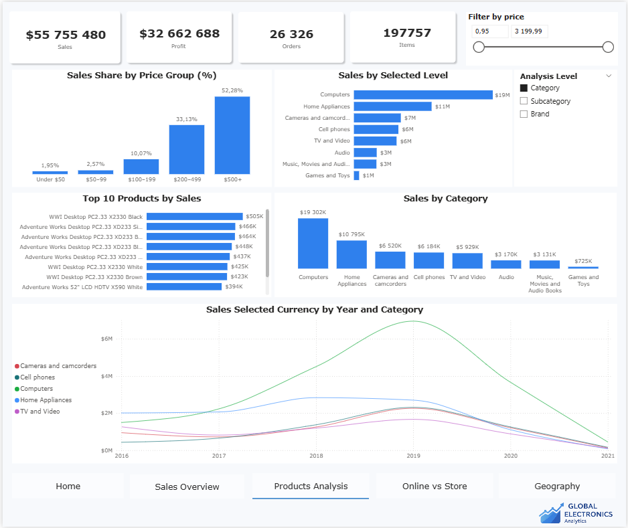

What the dashboard file says about the page in this screenshot:
{"tool":"powerbi","page":{"name":"Products Analysis","canvas":[1390,1170],"ordinal":2},"visuals":[{"type":"shape","box":[7.9,12.9,261.8,130.5],"z":0,"group":"g1"},{"type":"shape","box":[269.3,12.9,249,129.2],"z":0,"group":"g2"},{"type":"shape","box":[766.9,14.1,249.5,128.7],"z":0,"group":"g4"},{"type":"shape","box":[517.5,15.4,249.5,127.6],"z":0,"group":"g3"},{"type":"lineChart","fields":{"Category":["DimCalendar.Year"],"Series":["DimCategory.Category"],"Y":["_Measure.Sales Selected Currency"]},"box":[20.4,672.5,1349.1,355.6],"z":0,"group":"g5"},{"type":"card","fields":{"Values":["_Measure.Profit Selected Currency"]},"box":[280.6,25.3,227.2,105.6],"z":1000,"group":"g2"},{"type":"card","fields":{"Values":["_Measure.Sales Selected Currency"]},"box":[0,26.4,281.6,106.7],"z":1000,"group":"g1"},{"type":"card","fields":{"Values":["_Measure.Orders"]},"box":[528.8,27.7,227.7,104.3],"z":1000,"group":"g3"},{"type":"clusteredBarChart","title":"Sales by Selected Level","fields":{"Category":["DimCategory.Category"],"Y":["_Measure.Sales Selected Currency"]},"box":[605.9,150.8,529.5,262.2],"z":1000,"group":"g5"},{"type":"slicer","title":"Filter by price","fields":{"Values":["DimProducts.Unit Price USD"]},"box":[1032.3,21.7,337.9,118.5],"z":2000,"group":"g5"},{"type":"card","fields":{"Values":["_Measure.Items"]},"box":[800.7,24,200,104.9],"z":2000,"group":"g4"},{"type":"clusteredColumnChart","title":"Sales Share by Price Group (%)","fields":{"Category":["DimProducts.Price Group"],"Y":["_Measure.Sales Share %"]},"box":[20.4,150.8,578.7,262.2],"z":3000,"group":"g5"},{"type":"slicer","fields":{"Values":["Analysis Level.Analysis Level"]},"box":[1139.9,151,229.7,261.3],"z":5000,"group":"g5"},{"type":"clusteredBarChart","title":"Top 10 Products by Sales","fields":{"Category":["DimProducts.Product Name"],"Y":["_Measure.Sales Selected Currency"]},"box":[20.6,425.1,578.2,233.2],"z":6000,"group":"g5"},{"type":"clusteredColumnChart","title":"Sales by Category","fields":{"Category":["DimCategory.Category"],"Y":["_Measure.Sales Selected Currency"]},"box":[606.6,425.1,763,233.2],"z":7000,"group":"g5"},{"type":"group","id":"g1","title":"Group 1","box":[0,12.9,281.6,130.5],"z":8000,"group":"g5"},{"type":"group","id":"g2","title":"Group 1","box":[269.3,12.9,249.5,128.7],"z":9000,"group":"g5"},{"type":"actionButton","box":[283.5,1053.8,254.8,53.5],"z":10000,"group":"g5"},{"type":"group","id":"g3","title":"Group 1","box":[517.5,15.4,249.5,127.5],"z":11000,"group":"g5"},{"type":"group","id":"g4","title":"Group 2","box":[766.9,14.1,249.5,128.7],"z":12000,"group":"g5"},{"type":"actionButton","box":[20.6,1050.9,249.5,56.1],"z":13000,"group":"g5"},{"type":"actionButton","box":[557.1,1050.9,260.5,56.1],"z":14000,"group":"g5"},{"type":"actionButton","box":[1106.5,1050.9,260.5,56.1],"z":15000,"group":"g5"},{"type":"actionButton","box":[832.6,1050.9,260.5,56.1],"z":16000,"group":"g5"},{"type":"image","box":[1188,1111.4,182.2,58.6],"z":17000,"group":"g5"},{"type":"shape","box":[557.2,1096.6,260.2,20.6],"z":18000,"group":"g5"},{"type":"group","id":"g5","title":"Group 3","box":[0,0,1390,1170],"z":22001}]}

Visuals, with their boxes in screenshot pixels (x1, y1, x2, y2), scaled from the page's 1390x1170 canvas onto the 628x528 screenshot:
shape: crop(4, 6, 122, 65)
shape: crop(122, 6, 234, 64)
shape: crop(346, 6, 459, 64)
shape: crop(234, 7, 347, 65)
lineChart - DimCalendar.Year x DimCategory.Category: crop(9, 303, 619, 464)
card - _Measure.Profit Selected Currency: crop(127, 11, 229, 59)
card - _Measure.Sales Selected Currency: crop(0, 12, 127, 60)
card - _Measure.Orders: crop(239, 13, 342, 60)
"Sales by Selected Level" clusteredBarChart: crop(274, 68, 513, 186)
"Filter by price" slicer: crop(466, 10, 619, 63)
card - _Measure.Items: crop(362, 11, 452, 58)
"Sales Share by Price Group (%)" clusteredColumnChart: crop(9, 68, 271, 186)
slicer - Analysis Level.Analysis Level: crop(515, 68, 619, 186)
"Top 10 Products by Sales" clusteredBarChart: crop(9, 192, 271, 297)
"Sales by Category" clusteredColumnChart: crop(274, 192, 619, 297)
"Group 1" group: crop(0, 6, 127, 65)
"Group 1" group: crop(122, 6, 234, 64)
actionButton: crop(128, 476, 243, 500)
"Group 1" group: crop(234, 7, 347, 64)
"Group 2" group: crop(346, 6, 459, 64)
actionButton: crop(9, 474, 122, 500)
actionButton: crop(252, 474, 369, 500)
actionButton: crop(500, 474, 618, 500)
actionButton: crop(376, 474, 494, 500)
image: crop(537, 502, 619, 527)
shape: crop(252, 495, 369, 504)
"Group 3" group: crop(0, 0, 627, 527)
